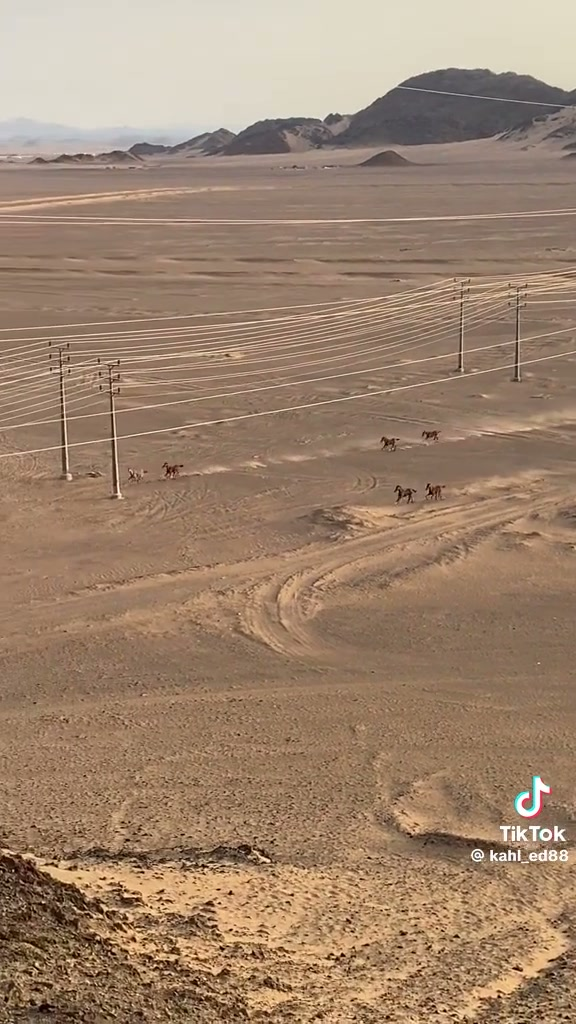animal: (394, 485, 415, 503), (162, 462, 183, 478), (426, 483, 444, 500), (380, 436, 399, 450), (128, 468, 146, 482), (421, 429, 439, 441)
vehicle_track: (240, 493, 525, 663)
